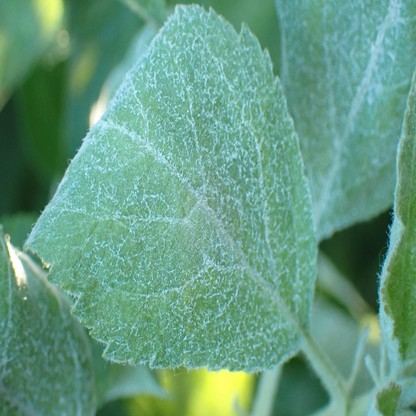powder: (23, 4, 318, 368), (278, 0, 416, 240), (0, 234, 93, 416), (377, 70, 416, 366)
